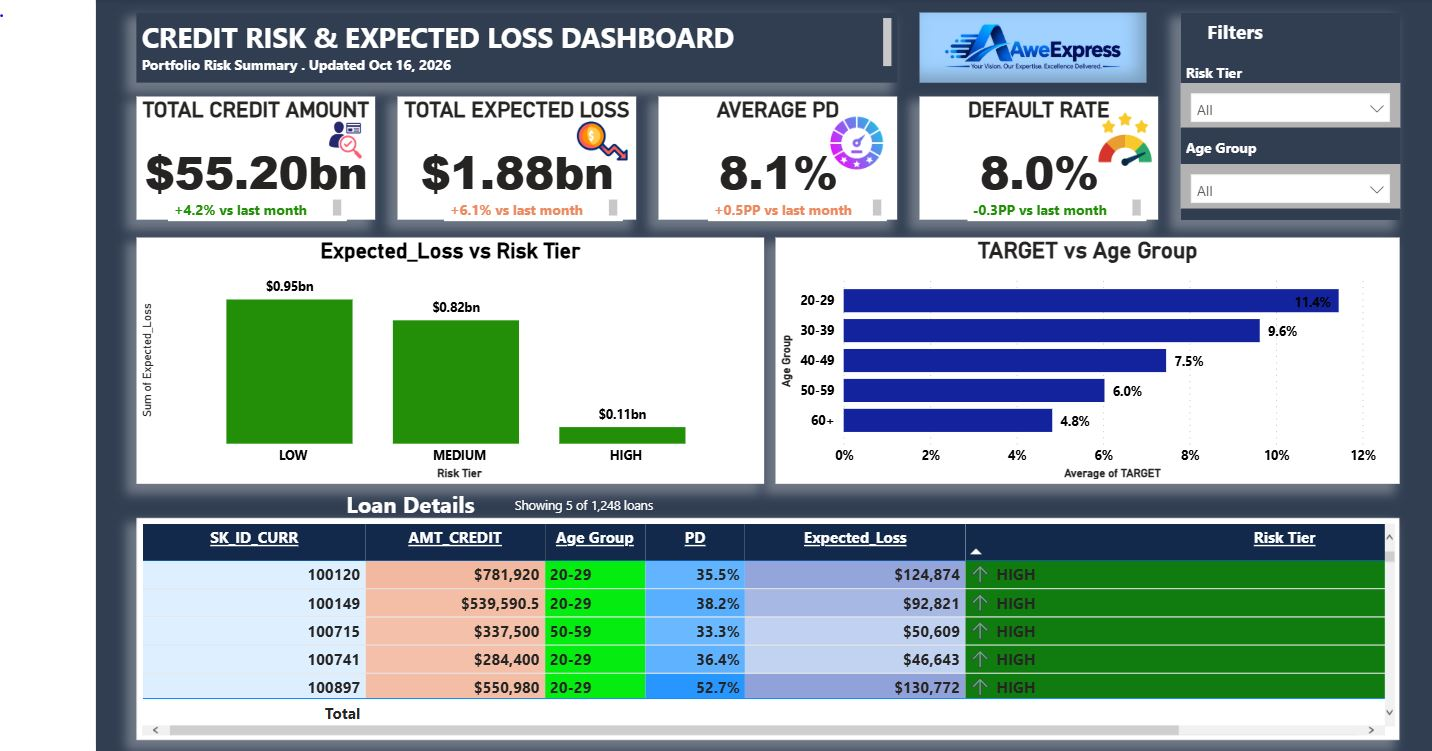

Layout of this report page (visuals, bound fields, positions):
{"tool":"powerbi","page":{"name":"Page 1","canvas":[1280,720],"ordinal":0},"visuals":[{"type":"card","title":"TOTAL CREDIT AMOUNT","fields":{"Values":["Sum(scored_loan_portfolio.AMT_CREDIT)"]},"box":[39.4,93.9,228.6,118.1],"z":0},{"type":"card","title":"TOTAL EXPECTED LOSS","fields":{"Values":["Sum(scored_loan_portfolio.Expected_Loss)"]},"box":[289.2,93.9,228.6,118.1],"z":1000},{"type":"card","title":"AVERAGE PD","fields":{"Values":["Avg(scored_loan_portfolio.PD)"]},"box":[539.1,93.9,228.6,118.1],"z":2000},{"type":"card","title":"DEFAULT RATE","fields":{"Values":["Avg(scored_loan_portfolio.TARGET)"]},"box":[788.9,93.9,228.6,118.1],"z":3000},{"type":"textbox","box":[38.8,12.9,728.6,67.5],"z":4000},{"type":"textbox","box":[834.3,186.2,171.1,25.7],"z":5000},{"type":"textbox","box":[586,186.2,171.1,25.7],"z":6000},{"type":"textbox","box":[69.7,186.2,171.1,25.7],"z":7000},{"type":"textbox","box":[333.1,186.2,171.1,25.7],"z":8000},{"type":"clusteredColumnChart","title":" Expected_Loss vs Risk Tier","fields":{"Y":["Sum(scored_loan_portfolio.Expected_Loss)"],"Category":["scored_loan_portfolio.Risk Tier"]},"box":[39.4,228.6,601.1,236.2],"z":9000},{"type":"clusteredBarChart","title":"TARGET vs Age Group","fields":{"Category":["scored_loan_portfolio.Age Group"],"Y":["Avg(scored_loan_portfolio.TARGET)"]},"box":[651.1,228.6,598.1,236.2],"z":10000},{"type":"tableEx","fields":{"Values":["scored_loan_portfolio.SK_ID_CURR","scored_loan_portfolio.AMT_CREDIT","scored_loan_portfolio.Age Group","scored_loan_portfolio.PD","scored_loan_portfolio.Expected_Loss","scored_loan_portfolio.Risk Tier"]},"box":[38.8,497.2,1210.1,212.7],"z":11000},{"type":"textbox","title":"   Filter","box":[1039.4,13.2,209.8,198.4],"z":12000},{"type":"slicer","fields":{"Values":["scored_loan_portfolio.Risk Tier"]},"box":[1038.7,80.3,210.5,42.4],"z":13000},{"type":"slicer","fields":{"Values":["scored_loan_portfolio.Age Group"]},"box":[1038.7,157.5,210.5,42.4],"z":14000},{"type":"textbox","box":[38.8,464.2,672.6,43.1],"z":14001},{"type":"image","box":[689.8,106.3,77.6,63.2],"z":14002},{"type":"image","box":[954.3,102,63.2,64.7],"z":14003},{"type":"image","box":[452.7,106.3,64.7,58.9],"z":14004},{"type":"image","box":[202.6,112.1,73.3,46],"z":14005},{"type":"image","box":[789,12.9,217,67.5],"z":14006}]}

Visuals, with their boxes in screenshot pixels (x1, y1, x2, y2):
"TOTAL CREDIT AMOUNT" card: rect(94, 85, 337, 211)
"TOTAL EXPECTED LOSS" card: rect(360, 85, 603, 211)
"AVERAGE PD" card: rect(626, 85, 869, 211)
"DEFAULT RATE" card: rect(892, 85, 1135, 211)
textbox: rect(94, 0, 869, 71)
textbox: rect(940, 183, 1122, 211)
textbox: rect(676, 183, 858, 211)
textbox: rect(126, 183, 309, 211)
textbox: rect(407, 183, 589, 211)
" Expected_Loss vs Risk Tier" clusteredColumnChart: rect(94, 228, 734, 480)
"TARGET vs Age Group" clusteredBarChart: rect(745, 228, 1382, 480)
tableEx - scored_loan_portfolio.SK_ID_CURR x scored_loan_portfolio.AMT_CREDIT: rect(94, 514, 1382, 741)
"   Filter" textbox: rect(1159, 0, 1382, 210)
slicer - scored_loan_portfolio.Risk Tier: rect(1158, 71, 1382, 116)
slicer - scored_loan_portfolio.Age Group: rect(1158, 153, 1382, 198)
textbox: rect(94, 479, 809, 525)
image: rect(786, 98, 869, 165)
image: rect(1068, 94, 1135, 163)
image: rect(534, 98, 603, 161)
image: rect(268, 104, 346, 153)
image: rect(892, 0, 1123, 71)
